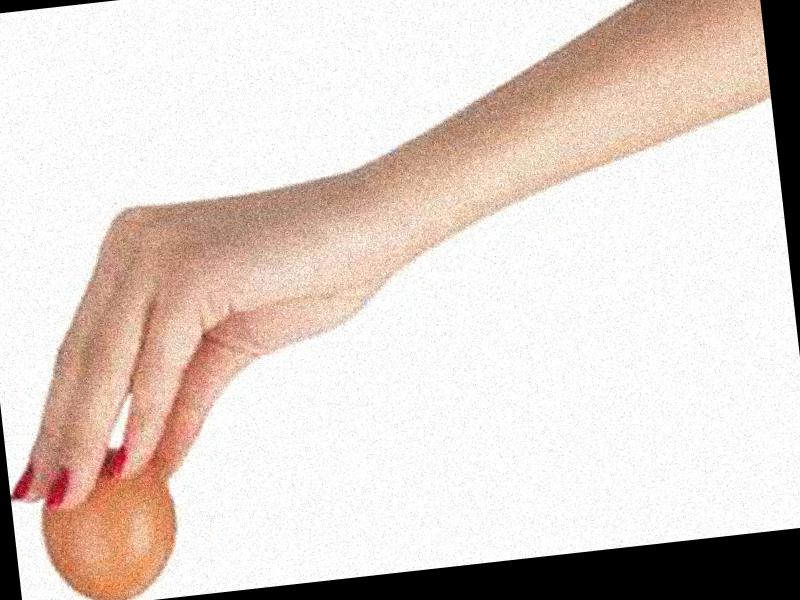Eggs: (33, 446, 184, 600)
